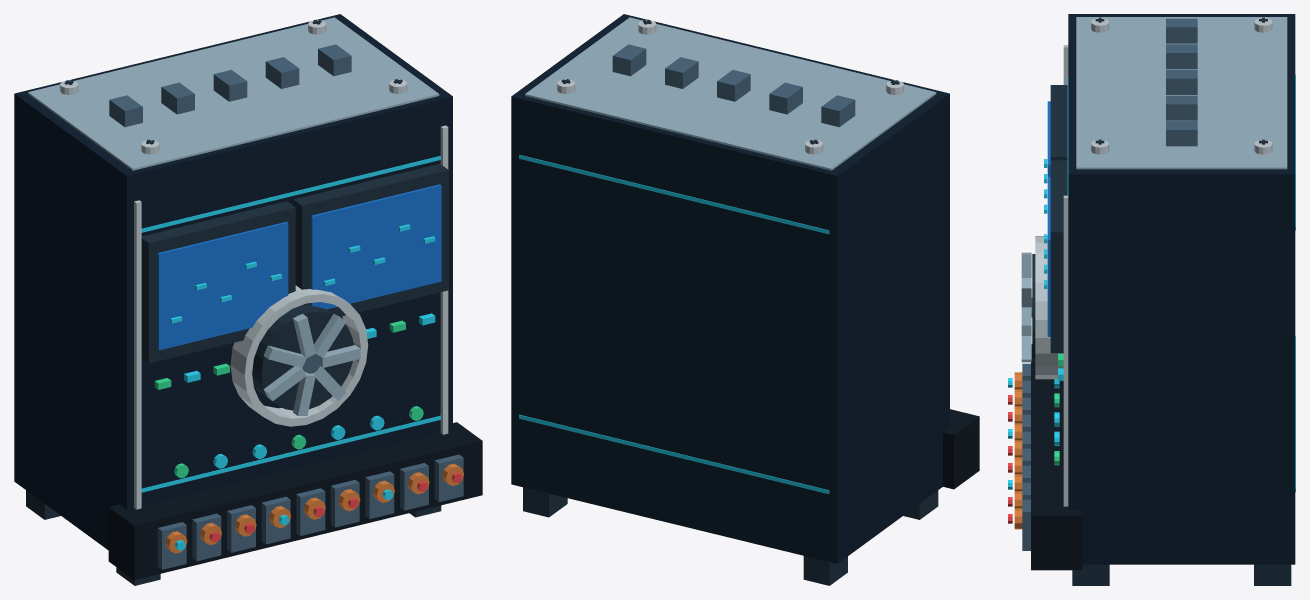
File: 34_L76_ElectrolyteThermalConditioner.fbx
3 renders of one model, left to right at view 1: azimuth 30°, elevation 25°; view 2: azimuth 150°, elevation 25°; view 3: azimuth 270°, elevation 25°, orthographic.
Visible parts, largest first — view 1: ElectrolyteThermalConditioner, ElectrolyteThermalConditioner_Part_0093, ElectrolyteThermalConditioner_Part_0092, ElectrolyteThermalConditioner_Part_0098, ElectrolyteThermalConditioner_Part_0095, ElectrolyteThermalConditioner_Part_0099, ElectrolyteThermalConditioner_Part_0096, ElectrolyteThermalConditioner_Part_0094; view 2: ElectrolyteThermalConditioner; view 3: ElectrolyteThermalConditioner, ElectrolyteThermalConditioner_Part_0093, ElectrolyteThermalConditioner_Part_0092.
Part boxes in pixels (left/top/right/bottom): ElectrolyteThermalConditioner: left=14, top=14, right=482, bottom=585; ElectrolyteThermalConditioner_Part_0093: left=230, top=285, right=368, bottom=426; ElectrolyteThermalConditioner_Part_0092: left=252, top=305, right=353, bottom=410; ElectrolyteThermalConditioner_Part_0098: left=263, top=366, right=306, bottom=400; ElectrolyteThermalConditioner_Part_0095: left=314, top=314, right=346, bottom=357; ElectrolyteThermalConditioner_Part_0099: left=293, top=372, right=315, bottom=415; ElectrolyteThermalConditioner_Part_0096: left=293, top=314, right=315, bottom=357; ElectrolyteThermalConditioner_Part_0094: left=317, top=345, right=360, bottom=367; ElectrolyteThermalConditioner: left=511, top=14, right=979, bottom=585; ElectrolyteThermalConditioner: left=1008, top=14, right=1295, bottom=585; ElectrolyteThermalConditioner_Part_0093: left=1035, top=236, right=1063, bottom=379; ElectrolyteThermalConditioner_Part_0092: left=1032, top=254, right=1035, bottom=361.
Size of the model in its own units: 141 by 167 by 100.
